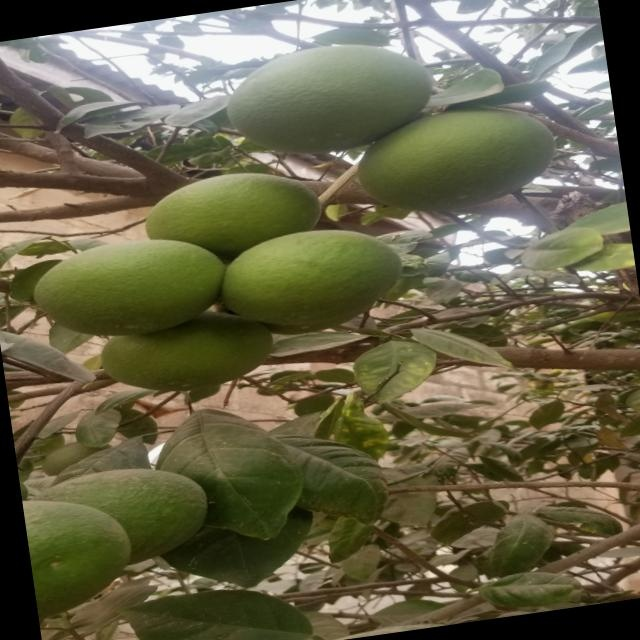agrume: (205, 32, 453, 176), (338, 90, 570, 230), (24, 446, 216, 614), (14, 221, 252, 356), (134, 147, 342, 295), (73, 294, 299, 411), (223, 213, 416, 345)
